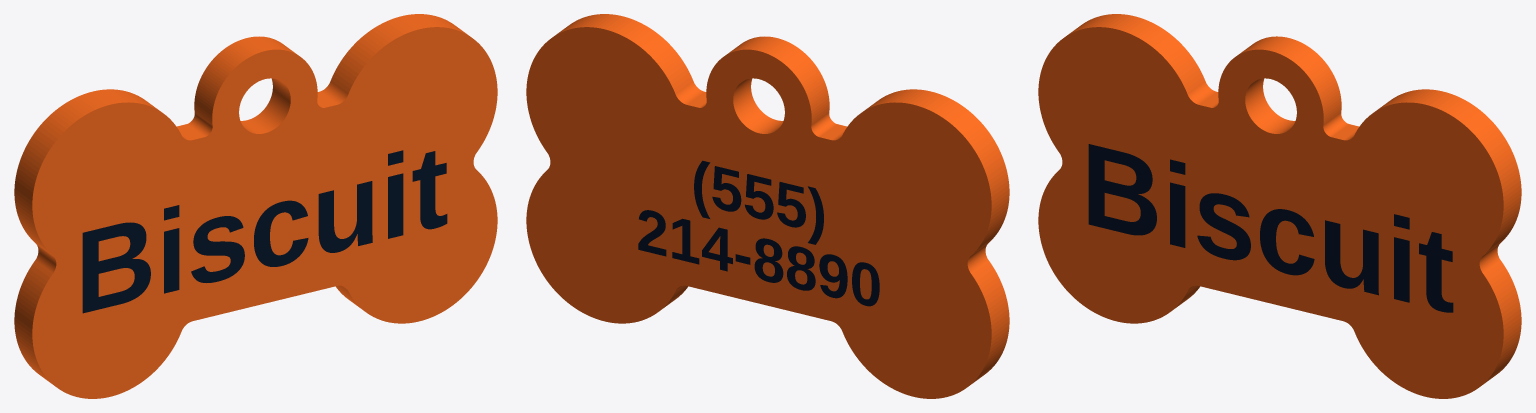
Rendered from pet.glb.
3 renders of one model, left to right at view 1: azimuth 30°, elevation 25°; view 2: azimuth 150°, elevation 25°; view 3: azimuth 330°, elevation 25°, orthographic.
Size of the model in its own units: 45 by 28.47 by 3.
